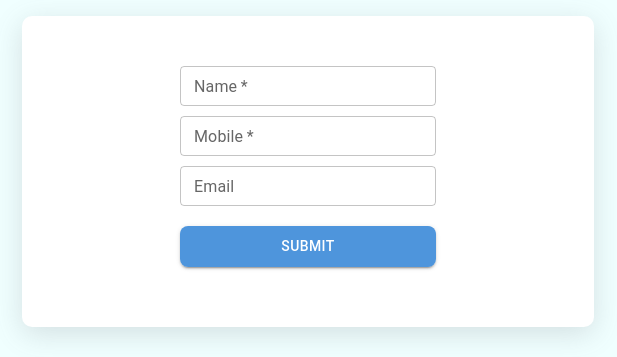
it: contact form › contact form › name field › should only accept alphabets and space
Type "tapish123@# sharma" into the field with test id "name" at (308, 86), box [180,66,436,106]
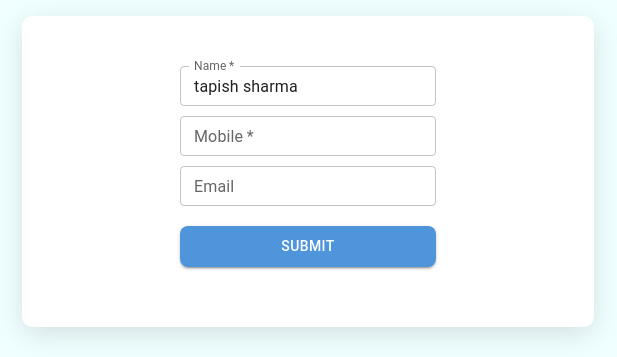
Expected: the field with test id "name" holds "tapish sharma", [180,66,436,106]
